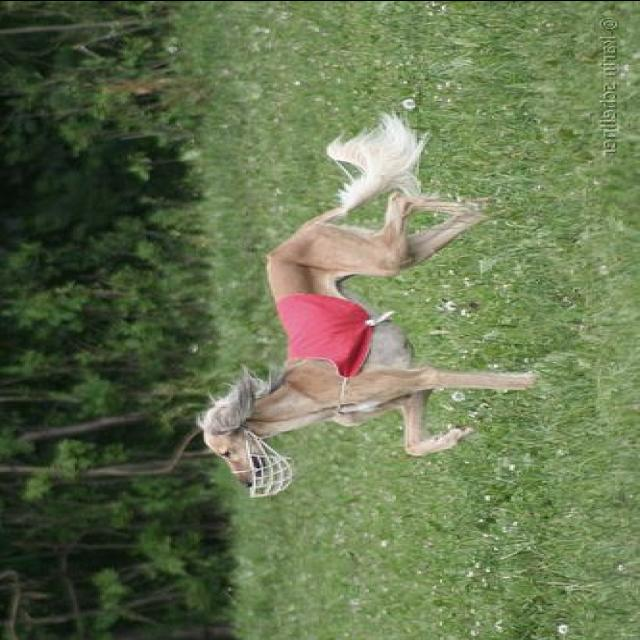saluki: (196, 108, 542, 488)
